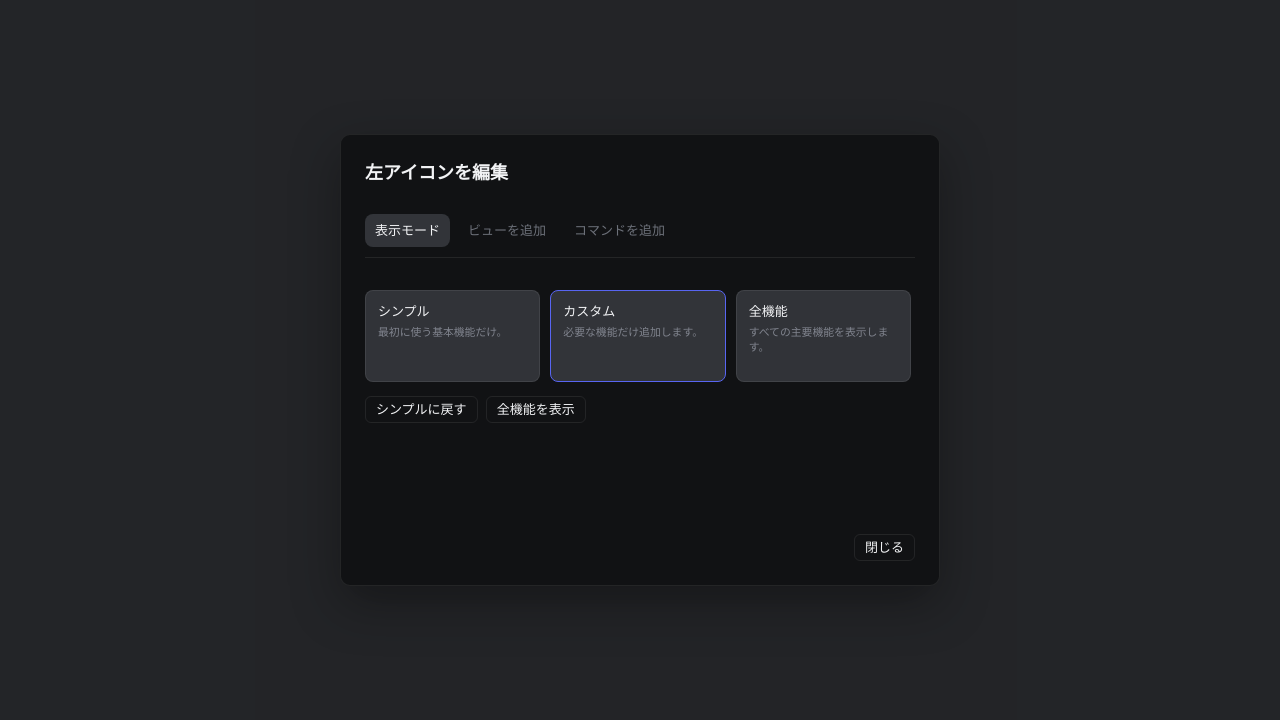
Test: RailCustomizeDialog › shows view options on views tab
Click the button "ビューを追加". click: (507, 231)
box: 458,214 -> 556,247
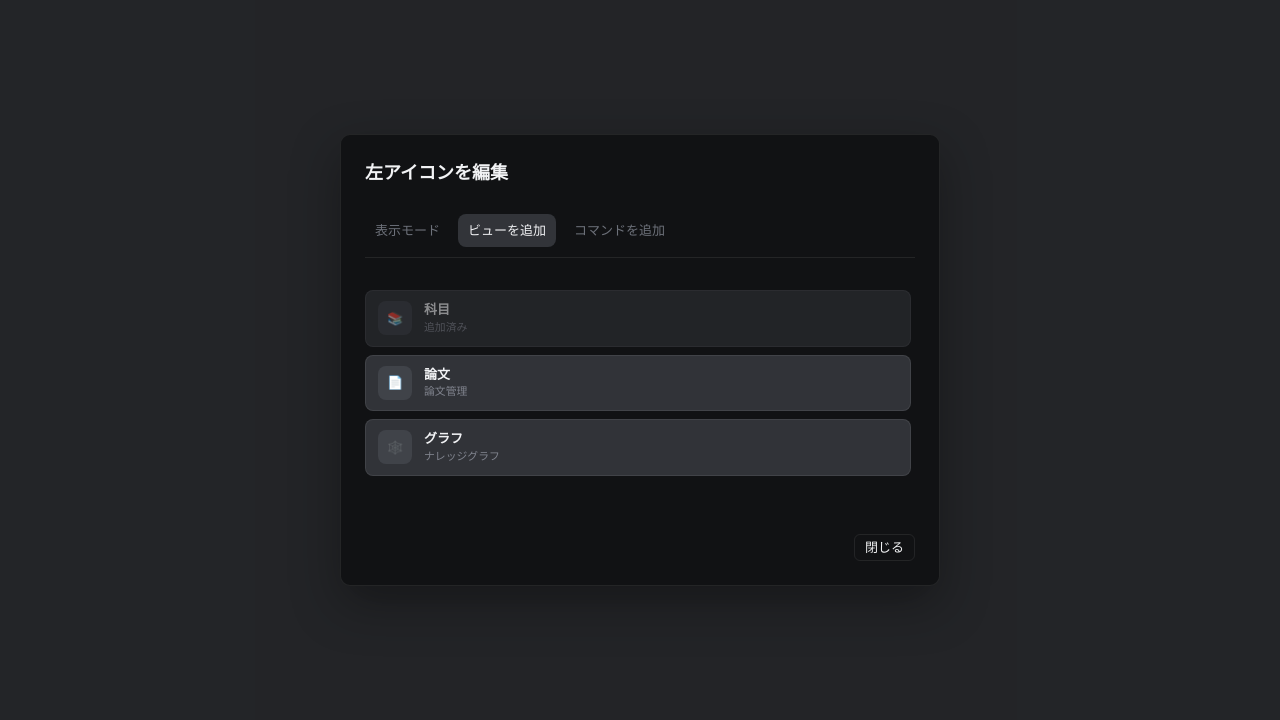
Now the text "科目" is shown, box 424,301 -> 450,317
Now the text "論文" is shown, box 424,366 -> 450,382
Now the text "グラフ" is shown, box 424,430 -> 463,446
